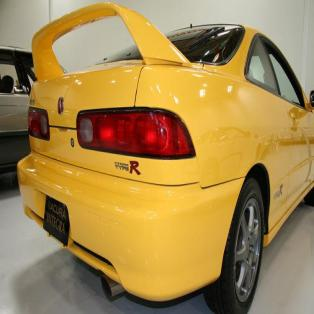Auto: (17, 2, 314, 313)
